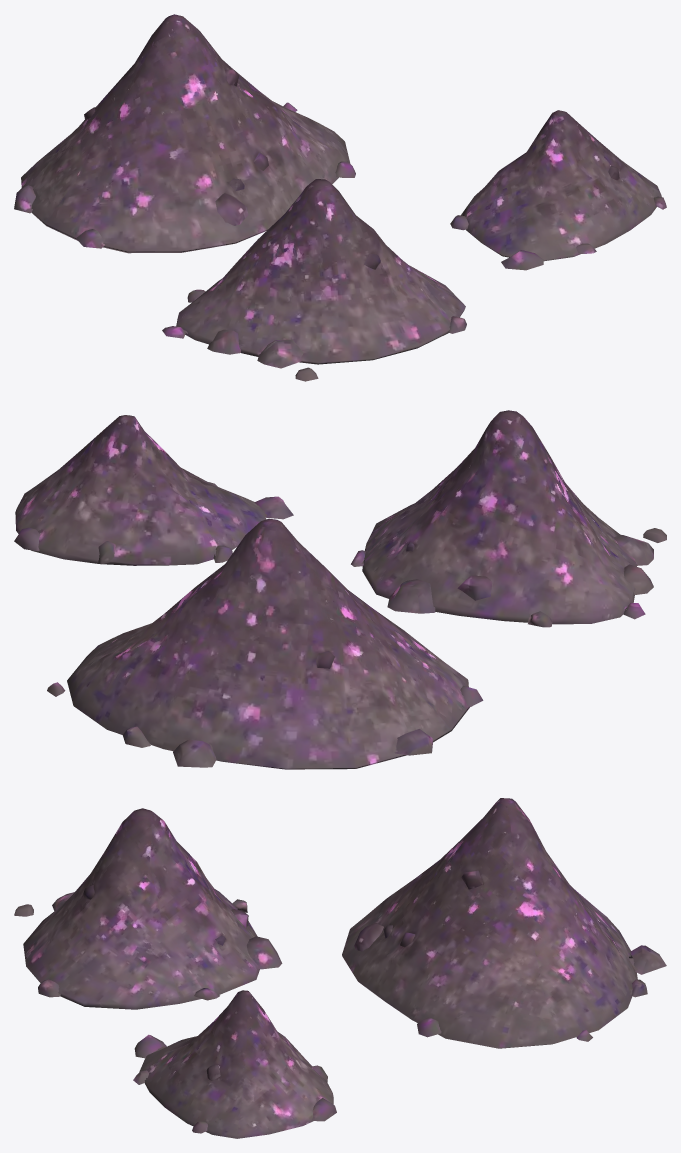
The picture shows the model from 3 angles, top to bottom: view 1: azimuth 30°, elevation 25°; view 2: azimuth 150°, elevation 25°; view 3: azimuth 270°, elevation 25°; orthographic projection. The views are drawn at different scales.
Visible parts, largest first — view 1: SM_Vile_Ash_01_LOD0; view 2: SM_Vile_Ash_01_LOD0; view 3: SM_Vile_Ash_01_LOD0.
Part boxes in pixels (x1,y1,x2,y2): SM_Vile_Ash_01_LOD0: (14, 14, 666, 381); SM_Vile_Ash_01_LOD0: (14, 410, 666, 769); SM_Vile_Ash_01_LOD0: (14, 798, 666, 1138).
Size of the model in its own units: 0.3994 by 0.1211 by 0.4248.
Materials: 1 (1 with a texture image).
